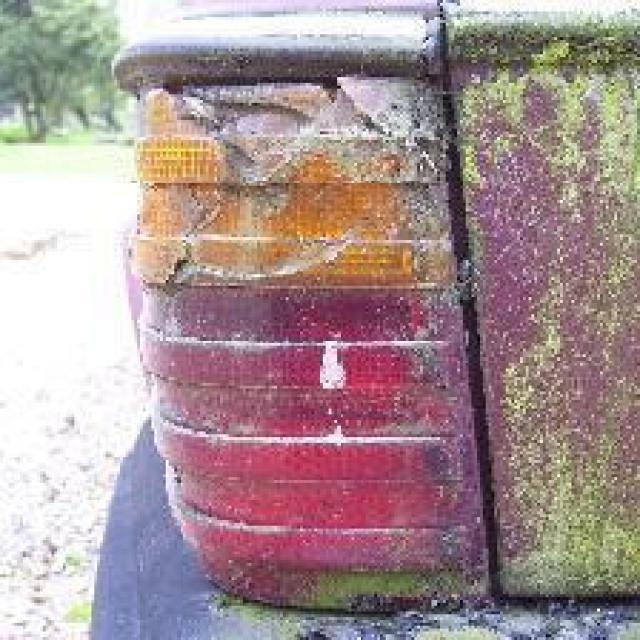damaged: (117, 0, 637, 637)
